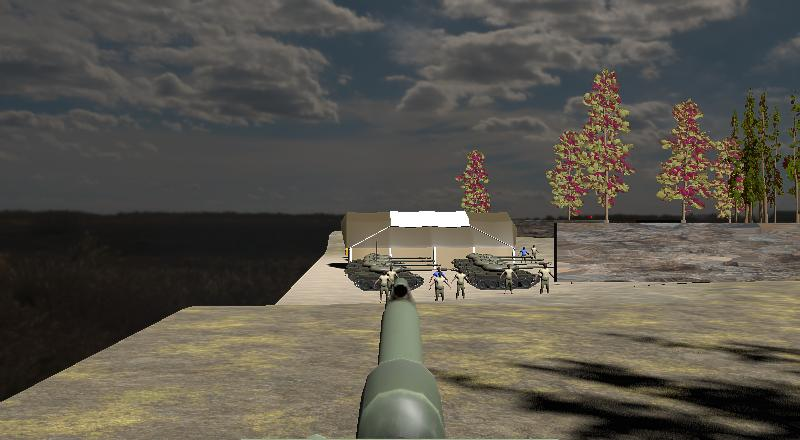Human: (535, 263, 556, 297), (501, 261, 517, 296), (519, 244, 529, 262)
Tank: (325, 252, 453, 296), (452, 251, 554, 291)
